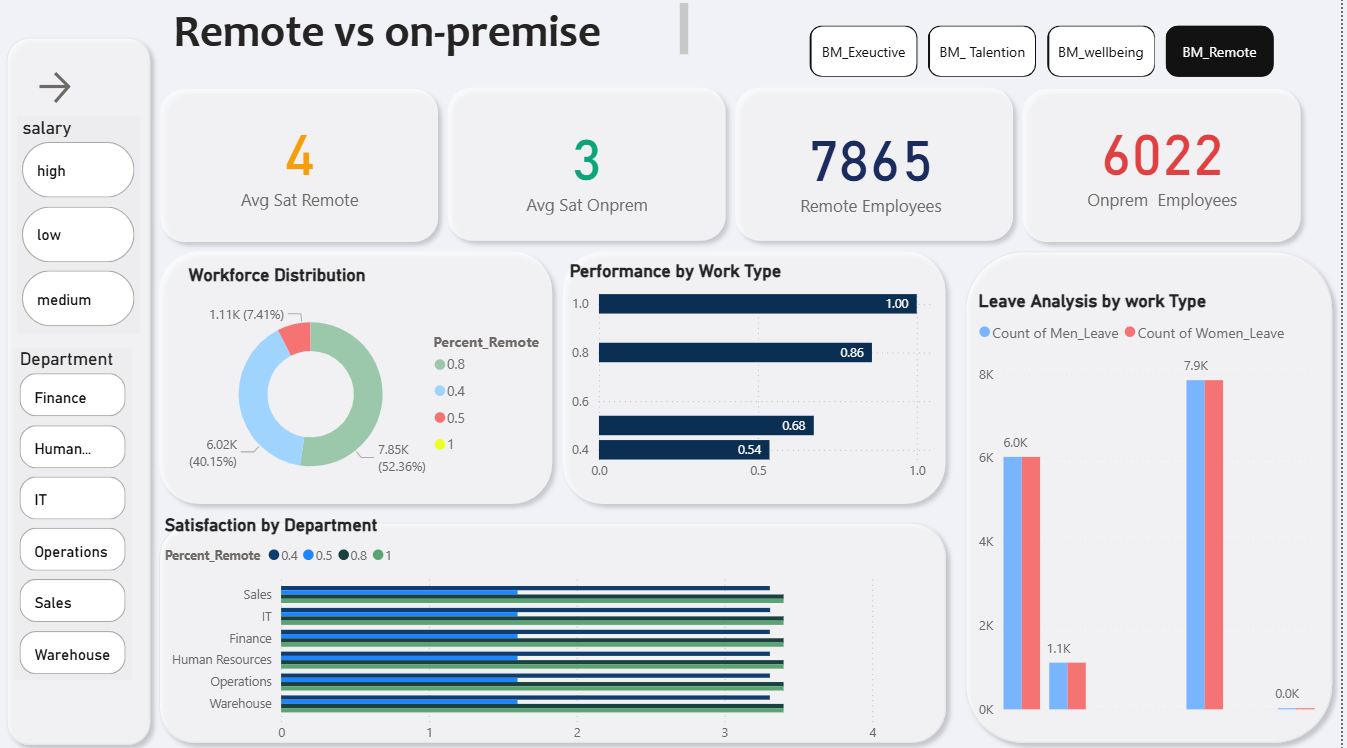

The dashboard page shown, as its layout file describes it:
{"tool":"powerbi","page":{"name":"Remote vs on-premise","canvas":[1280,720],"ordinal":3},"visuals":[{"type":"shape","box":[0,28.8,154.9,691.6],"z":0},{"type":"textbox","box":[162.8,0,500,60.5],"z":1000},{"type":"shape","box":[145.9,76.9,282.7,163.9],"z":2000},{"type":"shape","box":[912.8,232.6,367.4,486],"z":3000},{"type":"bookmarkNavigator","box":[773.3,26.4,444.3,49.2],"z":4000},{"type":"advancedSlicerVisual","fields":{"Values":["HR_Engagement_Sat_Sales_Updated.Department"]},"box":[16.8,333.8,111.7,315.8],"z":5000},{"type":"advancedSlicerVisual","fields":{"Values":["HR_Engagement_Sat_Sales_Updated.salary"]},"box":[19.2,112.9,117.7,206.5],"z":6000},{"type":"actionButton","box":[34.8,66,99.7,39.6],"z":7000},{"type":"shape","box":[145,232.5,392.5,258.8],"z":8000},{"type":"shape","box":[420.6,75.8,282.7,163.9],"z":9000},{"type":"shape","box":[694.2,75.8,282.7,163.9],"z":10000},{"type":"shape","box":[967.8,76.9,282.7,163.9],"z":11000},{"type":"shape","box":[530,232.5,382.5,258.8],"z":12000},{"type":"shape","box":[145.3,490.7,767.4,227.9],"z":13000},{"type":"card","fields":{"Values":["HR_Engagement_Sat_Sales_Updated.Avg Sat Remote"]},"box":[177.9,100,222.1,107],"z":14000},{"type":"card","fields":{"Values":["HR_Engagement_Sat_Sales_Updated.Avg Sat Onprem"]},"box":[451.2,104.7,222.1,107],"z":15000},{"type":"card","fields":{"Values":["HR_Engagement_Sat_Sales_Updated.Remote Employees"]},"box":[720.9,105.8,222.1,107],"z":16000},{"type":"card","fields":{"Values":["HR_Engagement_Sat_Sales_Updated.Onprem  Employees"]},"box":[998.8,100,222.1,107],"z":17000},{"type":"donutChart","title":"Workforce Distribution","fields":{"Category":["HR_Engagement_Sat_Sales_Updated.Percent_Remote"],"Y":["CountNonNull(HR_Engagement_Sat_Sales_Updated.ID)"]},"box":[177.5,253.8,360,228.8],"z":18000},{"type":"clusteredBarChart","title":"Satisfaction by Department","fields":{"Category":["HR_Engagement_Sat_Sales_Updated.Department"],"Y":["HR_Engagement_Sat_Sales_Updated.Avg Sat Onprem"],"Series":["HR_Engagement_Sat_Sales_Updated.Percent_Remote"]},"box":[154.7,491.9,705.8,226.7],"z":19000},{"type":"clusteredBarChart","title":"Performance by Work Type ","fields":{"Y":["Avg(HR_Engagement_Sat_Sales_Updated.last_evaluation)"],"Category":["HR_Engagement_Sat_Sales_Updated.Percent_Remote"]},"box":[540,250,362.5,218.8],"z":20000},{"type":"clusteredColumnChart","title":"Leave Analysis by work Type","fields":{"Category":["HR_Engagement_Sat_Sales_Updated.Percent_Remote"],"Y":["CountNonNull(HR_Engagement_Sat_Sales_Updated.Men_Leave)","CountNonNull(HR_Engagement_Sat_Sales_Updated.Women_Leave)"]},"box":[930.2,279.1,330.2,412.8],"z":23001}]}

Visuals, with their boxes in screenshot pixels (x1, y1, x2, y2), scaled from the page's 1280x720 canvas onto the 1347x748 screenshot:
shape: bbox=(0, 30, 163, 747)
textbox: bbox=(171, 0, 697, 63)
shape: bbox=(154, 80, 451, 250)
shape: bbox=(961, 242, 1346, 747)
bookmarkNavigator: bbox=(814, 27, 1281, 79)
advancedSlicerVisual - HR_Engagement_Sat_Sales_Updated.Department: bbox=(18, 347, 135, 675)
advancedSlicerVisual - HR_Engagement_Sat_Sales_Updated.salary: bbox=(20, 117, 144, 332)
actionButton: bbox=(37, 69, 142, 110)
shape: bbox=(153, 242, 566, 510)
shape: bbox=(443, 79, 740, 249)
shape: bbox=(731, 79, 1028, 249)
shape: bbox=(1018, 80, 1316, 250)
shape: bbox=(558, 242, 960, 510)
shape: bbox=(153, 510, 960, 747)
card - HR_Engagement_Sat_Sales_Updated.Avg Sat Remote: bbox=(187, 104, 421, 215)
card - HR_Engagement_Sat_Sales_Updated.Avg Sat Onprem: bbox=(475, 109, 709, 220)
card - HR_Engagement_Sat_Sales_Updated.Remote Employees: bbox=(759, 110, 992, 221)
card - HR_Engagement_Sat_Sales_Updated.Onprem  Employees: bbox=(1051, 104, 1285, 215)
"Workforce Distribution" donutChart: bbox=(187, 264, 566, 501)
"Satisfaction by Department" clusteredBarChart: bbox=(163, 511, 906, 747)
"Performance by Work Type " clusteredBarChart: bbox=(568, 260, 950, 487)
"Leave Analysis by work Type" clusteredColumnChart: bbox=(979, 290, 1326, 719)
